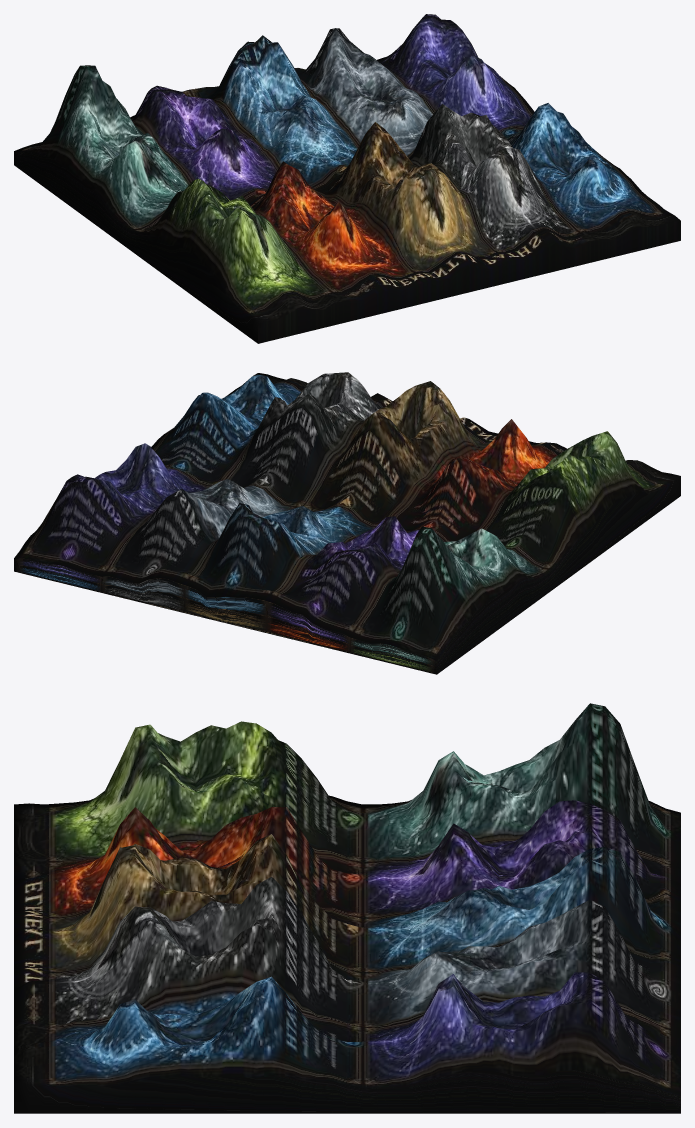
The model's file is Poster_Elemental_10_EN.glb.
3 views of the same model, one above another, from view 1: azimuth 30°, elevation 25°; view 2: azimuth 150°, elevation 25°; view 3: azimuth 270°, elevation 25° (orthographic). The views are drawn at different scales.
Visible parts, largest first — view 1: Poster_Elemental_10_EN; view 2: Poster_Elemental_10_EN; view 3: Poster_Elemental_10_EN.
Part boxes in pixels (<box>): Poster_Elemental_10_EN: <box>14,14,680,343</box>; Poster_Elemental_10_EN: <box>14,372,680,674</box>; Poster_Elemental_10_EN: <box>14,703,680,1113</box>.
Size of the model in its own units: 2 by 0.51 by 2.
1 material, 1 textured.
